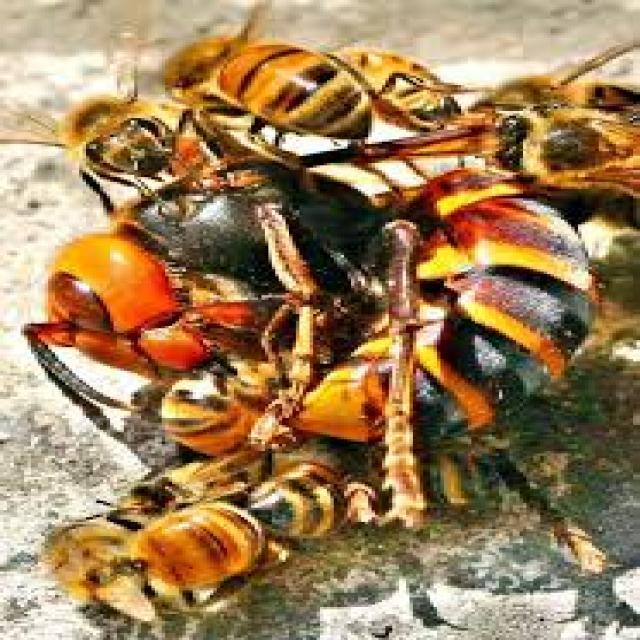Wasp: (40, 182, 595, 433)
